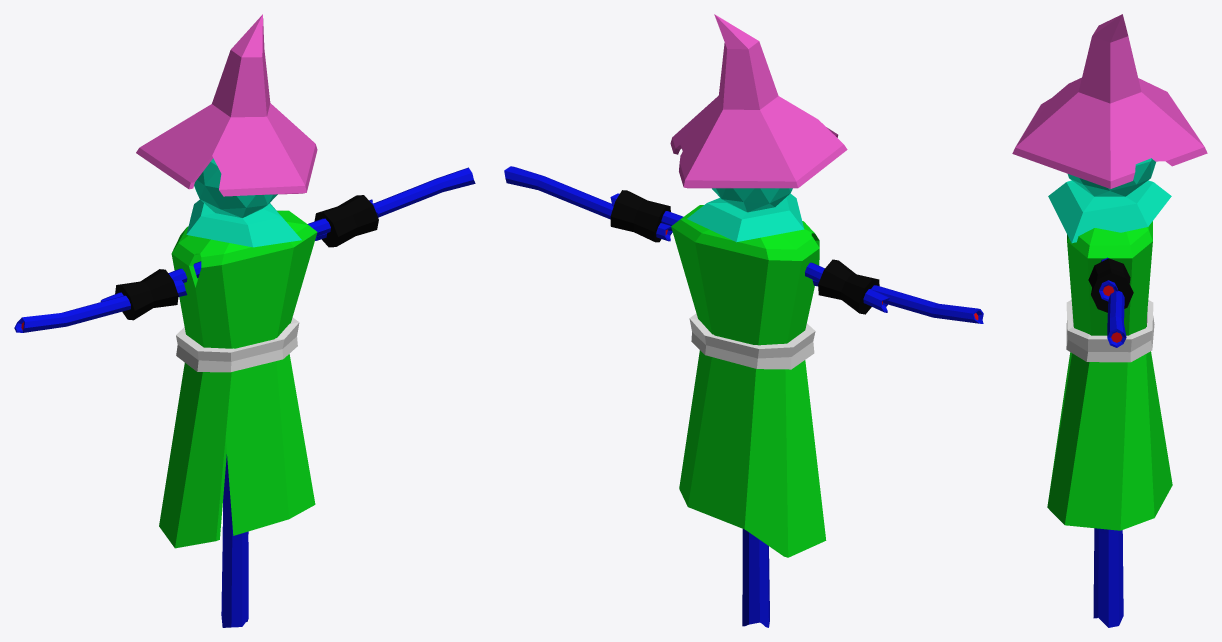
Rendered from SM_Scarecrow1.fbx.
The picture shows the model from 3 angles, left to right: view 1: azimuth 30°, elevation 25°; view 2: azimuth 150°, elevation 25°; view 3: azimuth 270°, elevation 25°; orthographic projection. The views are drawn at different scales.
Parts seen in each view (by area): view 1: SM_Scarecrow1; view 2: SM_Scarecrow1; view 3: SM_Scarecrow1.
Part boxes in pixels (x1,y1,x2,y2): SM_Scarecrow1: (14,14,475,627); SM_Scarecrow1: (504,14,983,627); SM_Scarecrow1: (1012,14,1207,627).
Bounding box in the file's own units: 64.79 × 79.94 × 22.65.
